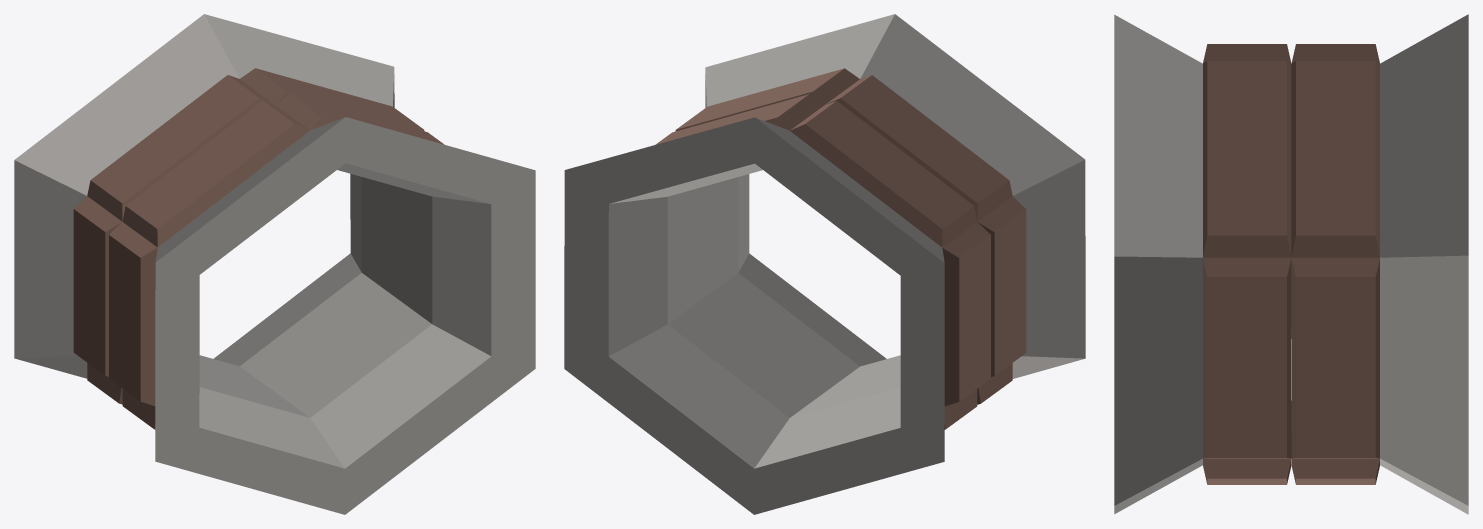
Rendered from vambrace.glb.
The picture shows the model from 3 angles, left to right: view 1: azimuth 30°, elevation 25°; view 2: azimuth 150°, elevation 25°; view 3: azimuth 270°, elevation 25°; orthographic projection. The views are drawn at different scales.
Parts seen in each view (by area): view 1: group648973876; view 2: group648973876; view 3: group648973876.
Part boxes in pixels (x1,y1,x2,y2): group648973876: [14, 14, 535, 514]; group648973876: [564, 14, 1085, 514]; group648973876: [1114, 14, 1468, 514].
Bounding box in the file's own units: 0.1122 × 0.1121 × 0.072.
